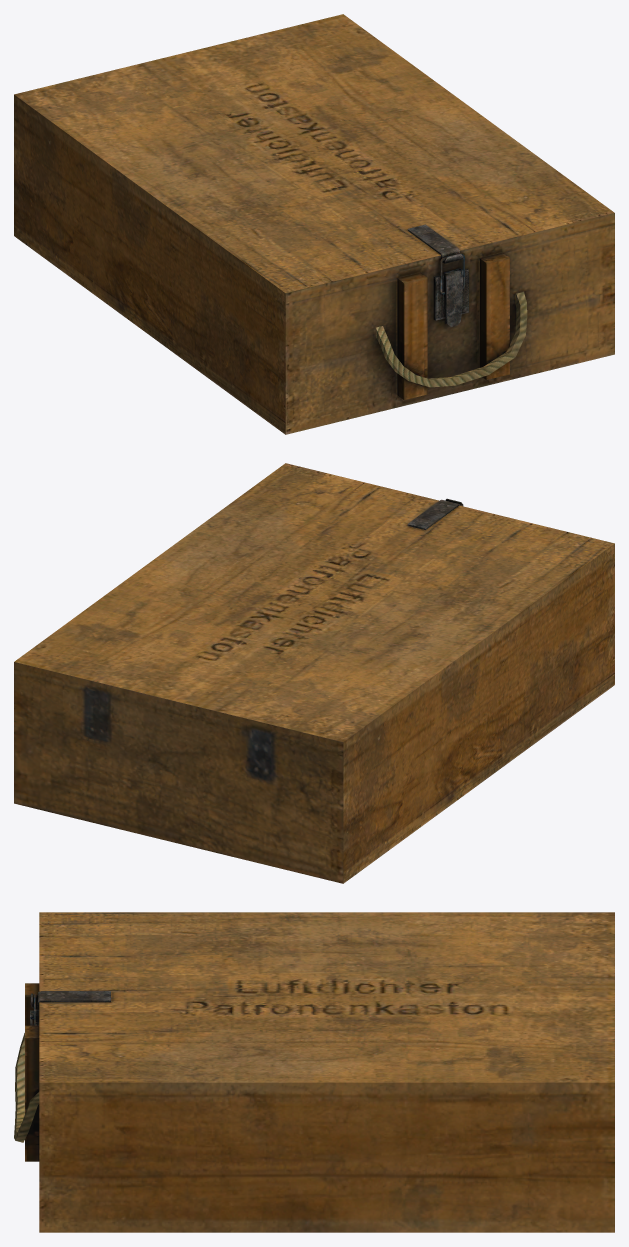
Rendered from VV_Ammo_Crate_1.fbx.
3 views of the same model, one above another, from view 1: azimuth 30°, elevation 25°; view 2: azimuth 150°, elevation 25°; view 3: azimuth 270°, elevation 25° (orthographic). The views are drawn at different scales.
Parts seen in each view (by area): view 1: VV_Ammo_Crate_1; view 2: VV_Ammo_Crate_1; view 3: VV_Ammo_Crate_1.
Part boxes in pixels (x1,y1,x2,y2): VV_Ammo_Crate_1: [14, 14, 614, 434]; VV_Ammo_Crate_1: [14, 463, 614, 883]; VV_Ammo_Crate_1: [14, 912, 614, 1232].
Bounding box in the file's own units: 55.03 × 22.86 × 82.1.
1 material, 1 textured.
